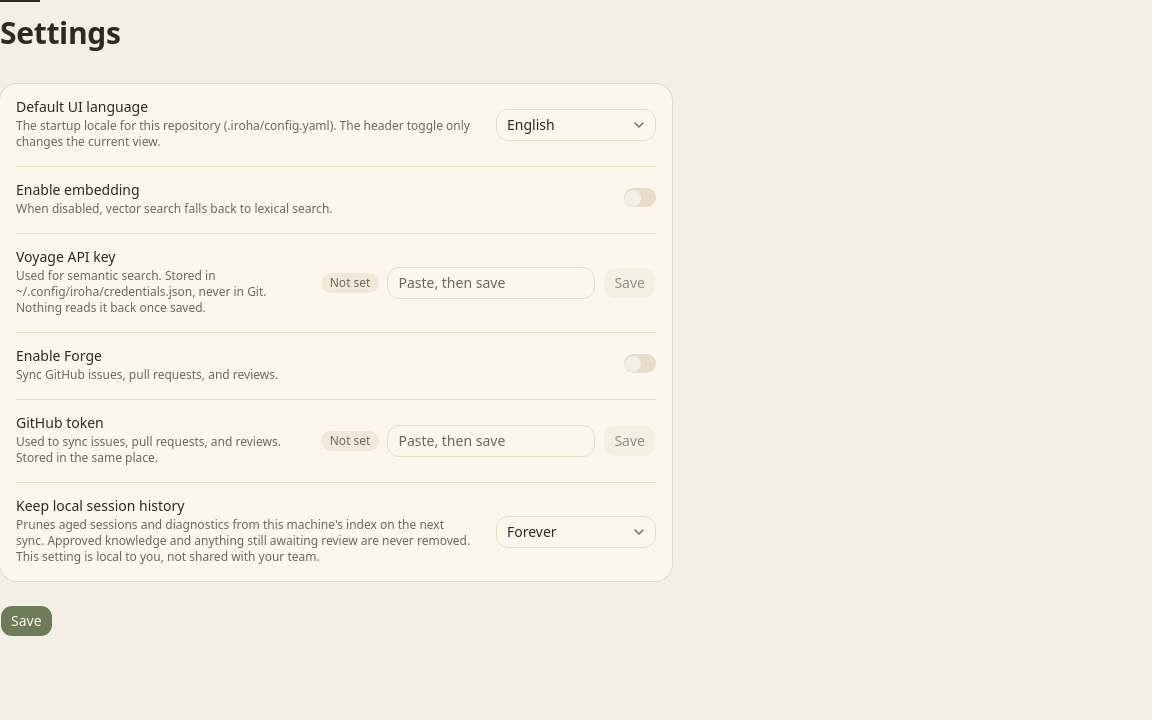
Test: Settings — save feedback › confirms a completed save with a toast
Expected: the text "Keep local session history" is shown, x1=16 y1=496 x2=184 y2=514
Click the 3rd button "Save". click: (26, 620)
box: x1=0 y1=604 x2=53 y2=636
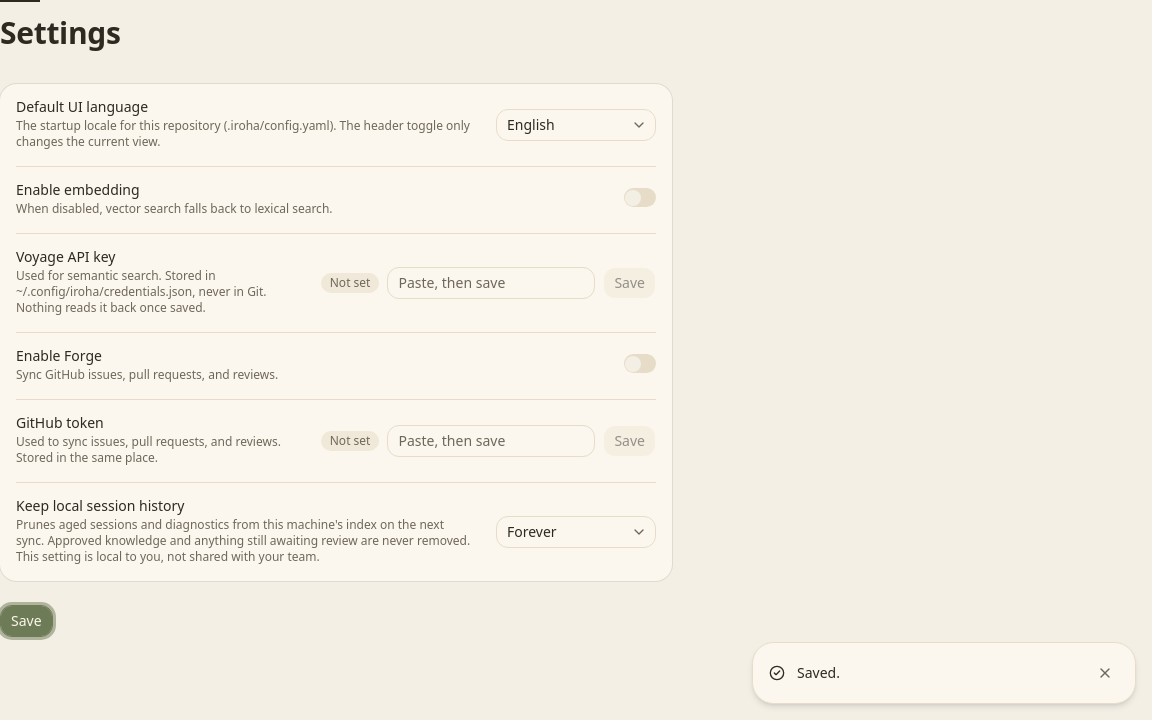
Expected: the heading "Saved." is shown, x1=797 y1=663 x2=840 y2=682
